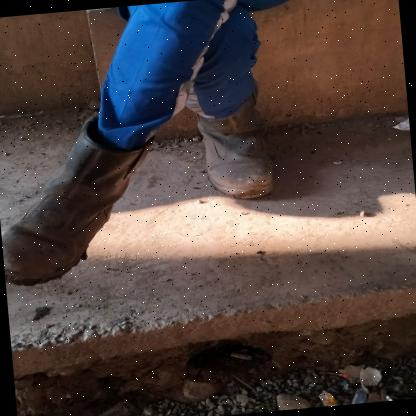bota: (0, 124, 162, 285), (183, 90, 287, 205)
